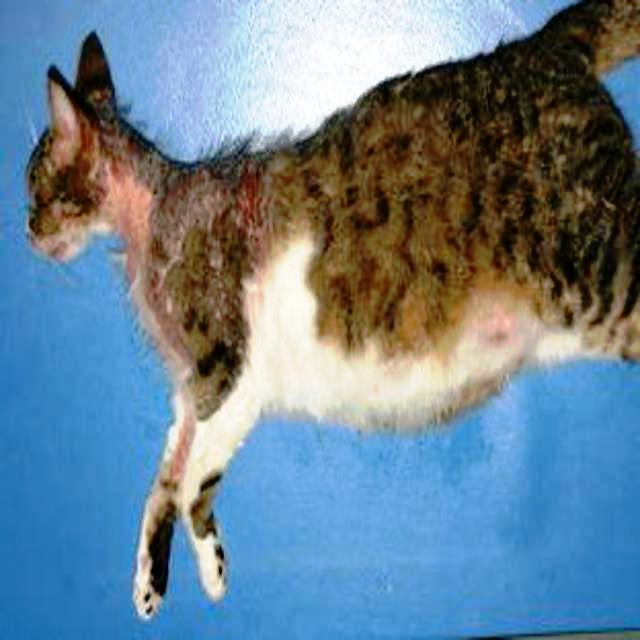hairloss: (250, 250, 561, 423)
